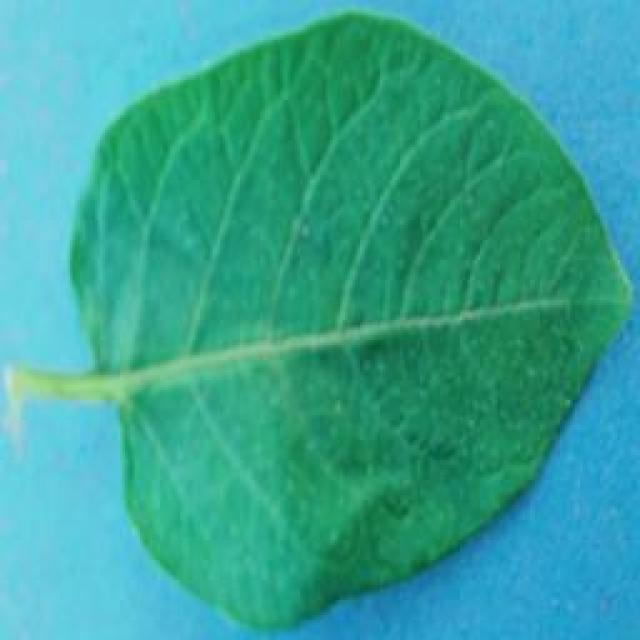Potato_Healthy: (16, 9, 625, 629)
